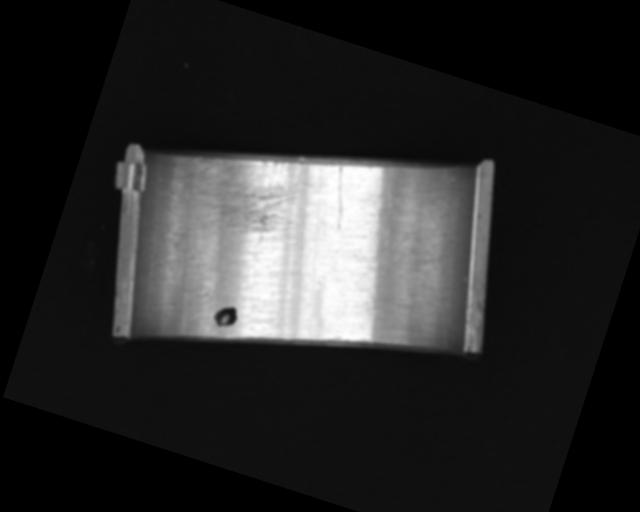blot: (211, 301, 240, 331)
nick: (401, 249, 473, 352), (320, 166, 360, 233)
scratch: (177, 128, 310, 249)
